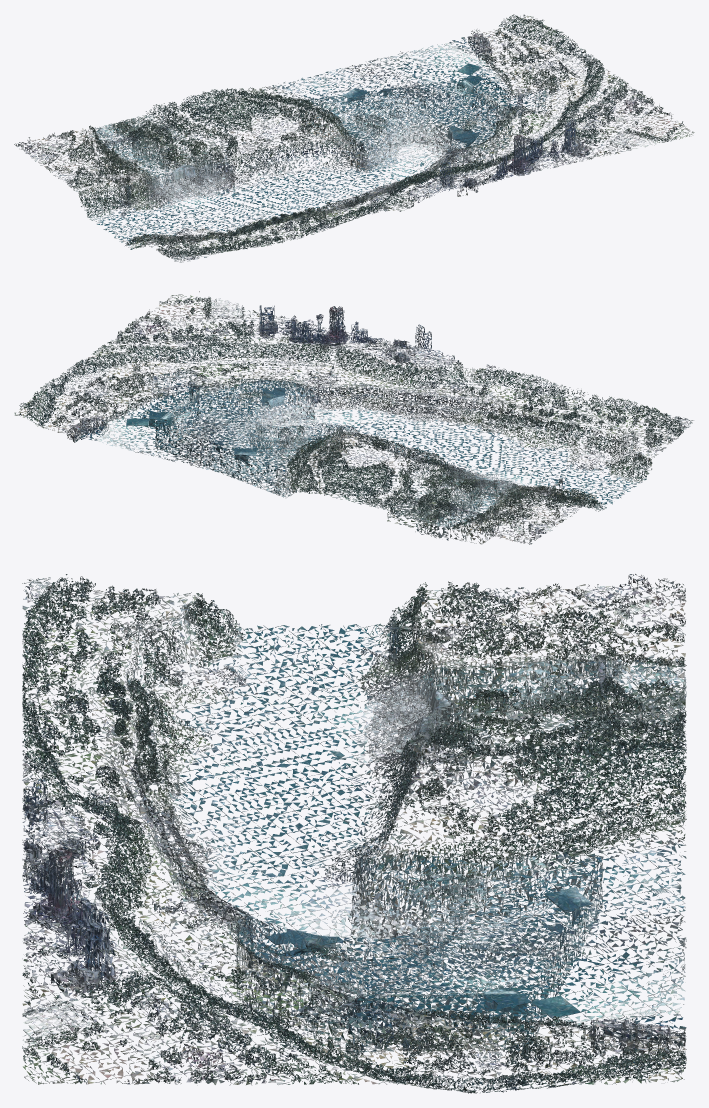
File: niagara.glb
The picture shows the model from 3 angles, top to bottom: view 1: azimuth 30°, elevation 25°; view 2: azimuth 150°, elevation 25°; view 3: azimuth 270°, elevation 25°; orthographic projection. The views are drawn at different scales.
Parts seen in each view (by area): view 1: NiagaraFalls.002_0; view 2: NiagaraFalls.002_0; view 3: NiagaraFalls.002_0.
Part boxes in pixels (box(x1,y1,x2,y2)): NiagaraFalls.002_0: box(14, 14, 694, 262); NiagaraFalls.002_0: box(14, 291, 693, 544); NiagaraFalls.002_0: box(22, 574, 686, 1093).
Size of the model in its own units: 52.75 by 6.89 by 29.19.
Materials: 1 (1 with a texture image).
